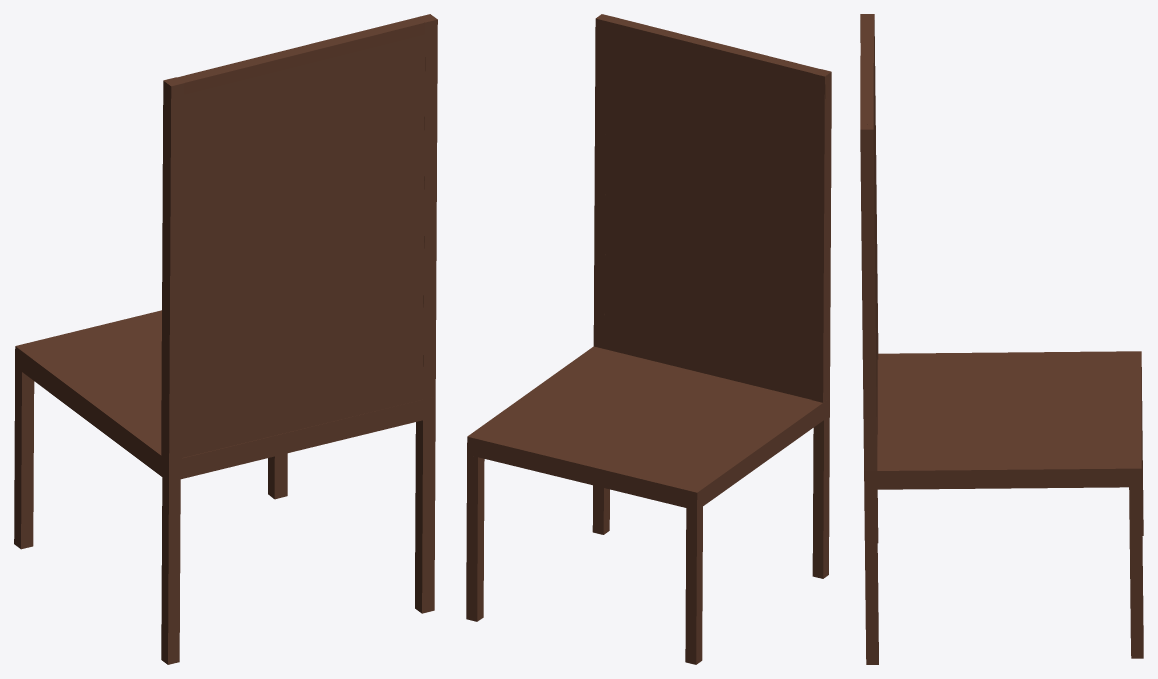
Rendered from Eetkamer_Stoel.fbx.
3 renders of one model, left to right at view 1: azimuth 30°, elevation 25°; view 2: azimuth 150°, elevation 25°; view 3: azimuth 270°, elevation 25°, orthographic. The views are drawn at different scales.
Parts seen in each view (by area): view 1: Cube; view 2: Cube; view 3: Cube.
Part boxes in pixels (left/top/right/bottom): Cube: left=14, top=14, right=437, bottom=664; Cube: left=466, top=14, right=831, bottom=664; Cube: left=860, top=14, right=1143, bottom=664.
Bounding box in the file's own units: 200 × 426 × 204.
